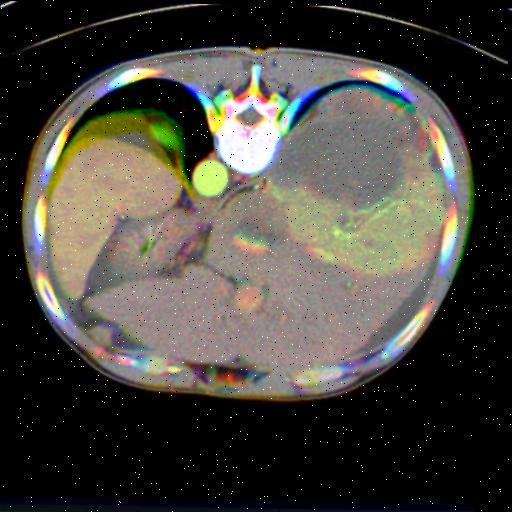Tumor: (272, 80, 422, 206)
